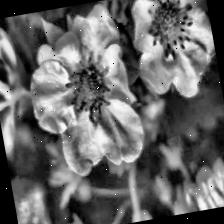Blossom Blight: (139, 0, 204, 62)
